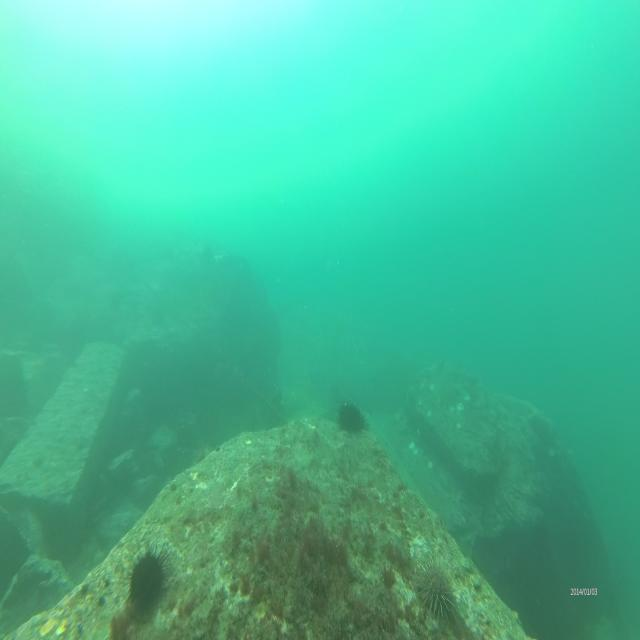echinus: (414, 544, 462, 624), (122, 542, 170, 617), (335, 397, 370, 442)
